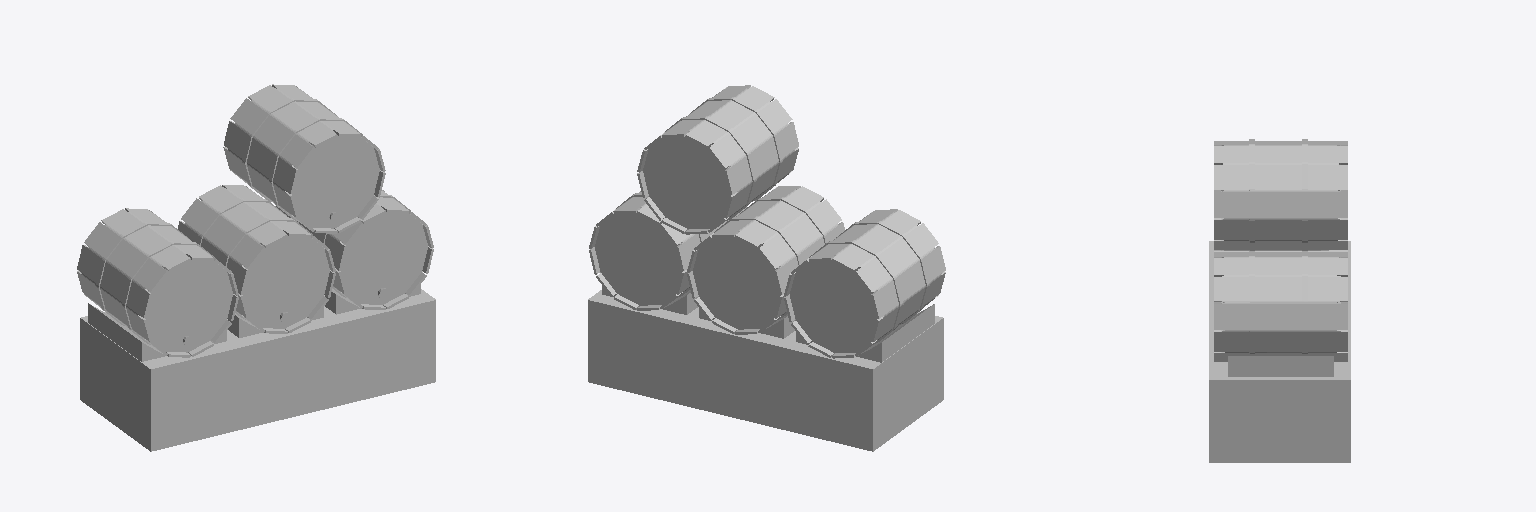
The model's file is Store room barrels.obj.
3 views of the same model, side by side, from view 1: azimuth 30°, elevation 25°; view 2: azimuth 150°, elevation 25°; view 3: azimuth 270°, elevation 25° (orthographic).
Parts seen in each view (by area): view 1: Barells_Tavern.004, Stand_Tavern.002, Counter_Tavern.003; view 2: Barells_Tavern.004, Stand_Tavern.002, Counter_Tavern.003; view 3: Barells_Tavern.004, Stand_Tavern.002, Counter_Tavern.003.
Part boxes in pixels (x1,y1,x2,y2): Barells_Tavern.004: (77,84,433,357); Stand_Tavern.002: (80,289,435,451); Counter_Tavern.003: (88,285,420,361); Barells_Tavern.004: (589,85,945,358); Stand_Tavern.002: (588,290,943,451); Counter_Tavern.003: (602,286,934,362); Barells_Tavern.004: (1214,139,1347,361); Stand_Tavern.002: (1209,241,1350,462); Counter_Tavern.003: (1228,356,1333,376).
Bounding box in the file's own units: 90.94 × 80.52 × 38.01.